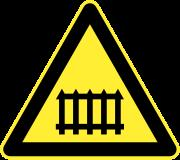Barrier Ahead: (12, 12, 170, 149)
